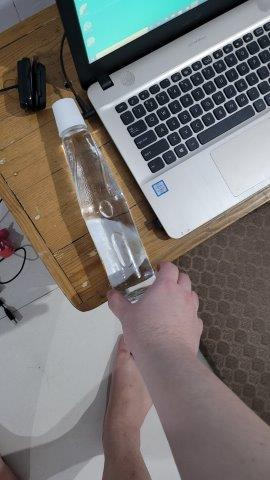botolkaca: (48, 97, 157, 301)
